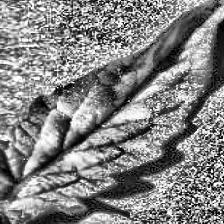leaf mold: (0, 0, 224, 212)
